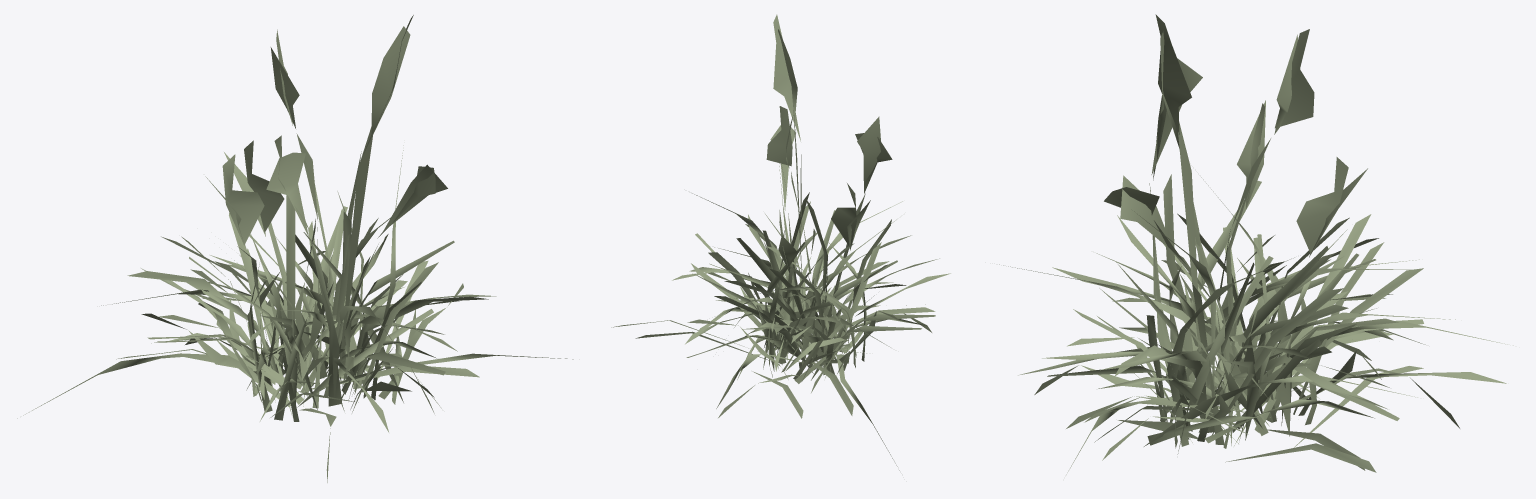
The model's file is grass-lod2.glb.
The picture shows the model from 3 angles, left to right: view 1: azimuth 30°, elevation 25°; view 2: azimuth 150°, elevation 25°; view 3: azimuth 270°, elevation 25°; orthographic projection. The views are drawn at different scales.
Parts seen in each view (by area): view 1: grass_medium_01_mid_a_LOD0; view 2: grass_medium_01_mid_a_LOD0; view 3: grass_medium_01_mid_a_LOD0.
Boxes of the visible parts, x1=… form: grass_medium_01_mid_a_LOD0: x1=17, y1=15, x2=573, y2=482; grass_medium_01_mid_a_LOD0: x1=611, y1=14, x2=950, y2=470; grass_medium_01_mid_a_LOD0: x1=999, y1=14, x2=1513, y2=474.
Size of the model in its own units: 0.2164 by 0.2161 by 0.2161.
